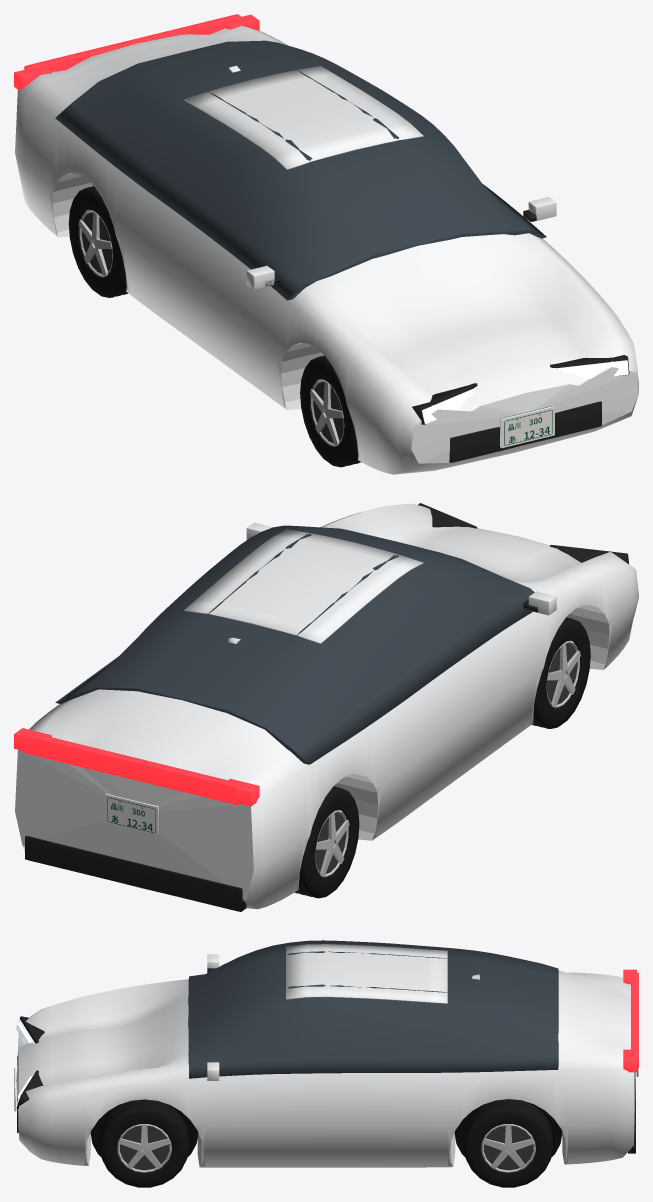
Rendered from car_liftback_v2.glb.
3 views of the same model, one above another, from view 1: azimuth 30°, elevation 25°; view 2: azimuth 150°, elevation 25°; view 3: azimuth 270°, elevation 25° (orthographic). The views are drawn at different scales.
Parts seen in each view (by area): view 1: Body, GlassCanopy, RoofPanel, Wheel_RL_tire, Wheel_FL_tire, FrontIntake, Taillight, PlateFace, Wheel_RL_barrel, Wheel_FL_barrel; view 2: Body, GlassCanopy, RoofPanel, RearValance, Taillight, Wheel_RL_tire, Wheel_FL_tire, PlateFace.001, Wheel_RL_barrel, Wheel_FL_barrel, HeadHousing; view 3: Body, GlassCanopy, RoofPanel, Wheel_RR_tire, Wheel_FR_tire, Wheel_FR_barrel, Wheel_RR_barrel, Wheelhouse.001, Wheelhouse, Taillight, Wheel_FR_lip, Wheel_RR_lip.
Part boxes in pixels (bbox=[...]): Body: bbox=[15, 26, 638, 474]; GlassCanopy: bbox=[55, 40, 546, 300]; RoofPanel: bbox=[184, 66, 423, 169]; Wheel_RL_tire: bbox=[68, 186, 127, 297]; Wheel_FL_tire: bbox=[300, 355, 361, 467]; FrontIntake: bbox=[449, 401, 601, 462]; Taillight: bbox=[24, 14, 242, 71]; PlateFace: bbox=[503, 408, 553, 446]; Wheel_RL_barrel: bbox=[82, 212, 112, 273]; Wheel_FL_barrel: bbox=[313, 381, 343, 442]; Body: bbox=[15, 503, 638, 909]; GlassCanopy: bbox=[55, 525, 534, 764]; RoofPanel: bbox=[184, 529, 423, 643]; RearValance: bbox=[25, 836, 246, 911]; Taillight: bbox=[24, 732, 242, 804]; Wheel_RL_tire: bbox=[295, 786, 359, 898]; Wheel_FL_tire: bbox=[532, 617, 590, 728]; PlateFace.001: bbox=[106, 796, 155, 834]; Wheel_RL_barrel: bbox=[315, 812, 346, 873]; Wheel_FL_barrel: bbox=[547, 643, 577, 704]; HeadHousing: bbox=[550, 545, 628, 563]; Body: bbox=[16, 970, 635, 1167]; GlassCanopy: bbox=[188, 940, 558, 1078]; RoofPanel: bbox=[286, 944, 447, 1003]; Wheel_RR_tire: bbox=[464, 1099, 552, 1187]; Wheel_FR_tire: bbox=[100, 1099, 188, 1187]; Wheel_FR_barrel: bbox=[120, 1126, 168, 1170]; Wheel_RR_barrel: bbox=[484, 1126, 532, 1170]; Wheelhouse.001: bbox=[454, 1102, 562, 1157]; Wheelhouse: bbox=[90, 1103, 198, 1157]; Taillight: bbox=[631, 972, 638, 1067]; Wheel_FR_lip: bbox=[117, 1124, 171, 1172]; Wheel_RR_lip: bbox=[481, 1124, 535, 1172].
Size of the model in its own units: 2.04 by 1.44 by 4.64.
13 materials, 1 textured.
